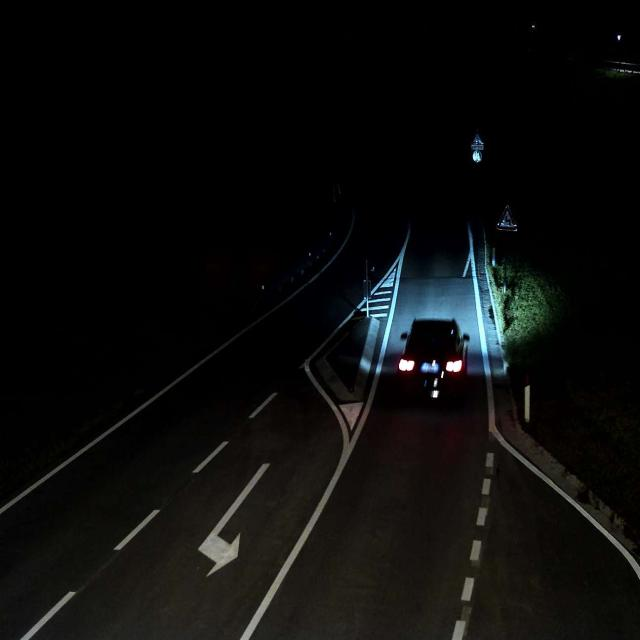car: (396, 316, 470, 402)
